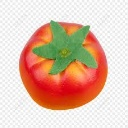tomato: (18, 21, 108, 110)
